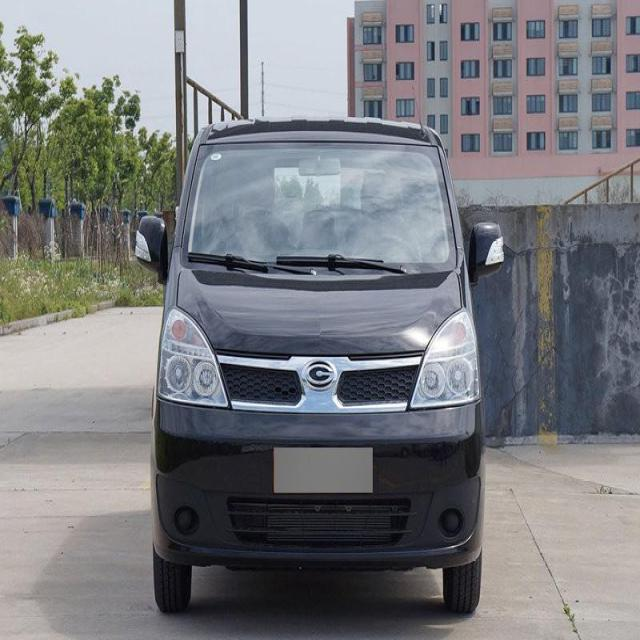front_bumper: (148, 396, 486, 570)
front_glass: (178, 139, 459, 266)
front_left_side_light: (408, 308, 480, 415)
front_left_side_mirror: (464, 220, 506, 286)
front_right_side_light: (155, 305, 231, 412)
front_right_side_mirror: (136, 210, 170, 294)
